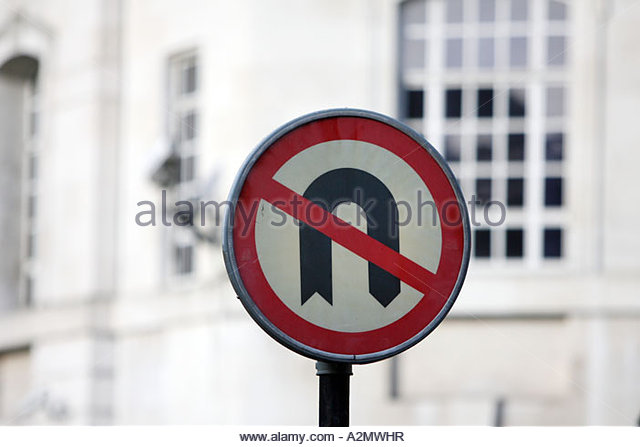No_u_turn: (224, 109, 474, 358)
